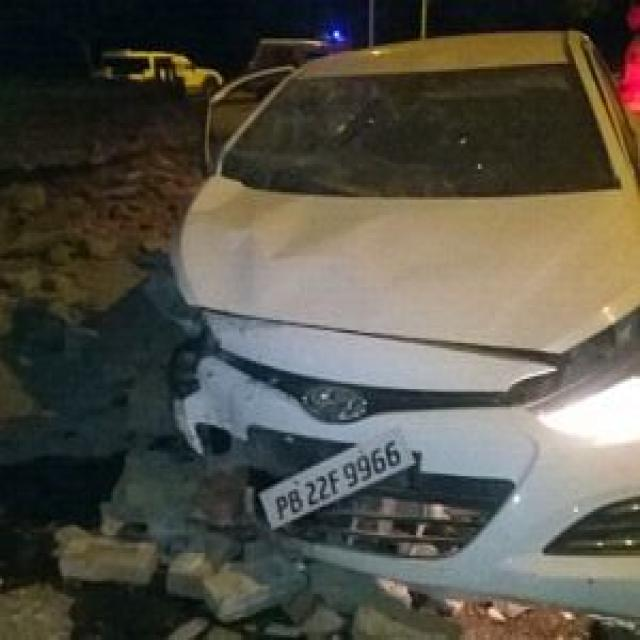accident: (174, 32, 640, 617)
